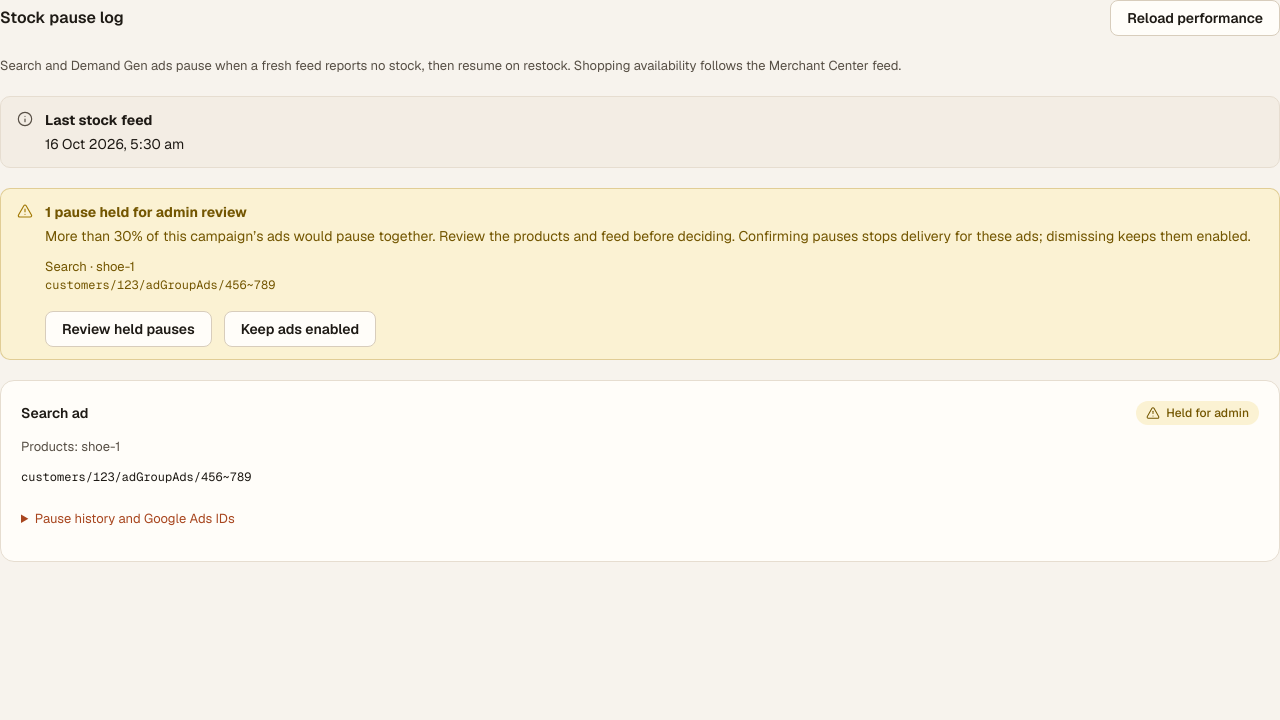
Scenario: batch failure stays in the dialog and focuses its message
Click the button "Review held pauses" at (128, 329), box top-left (45, 311), bottom-right (212, 347)
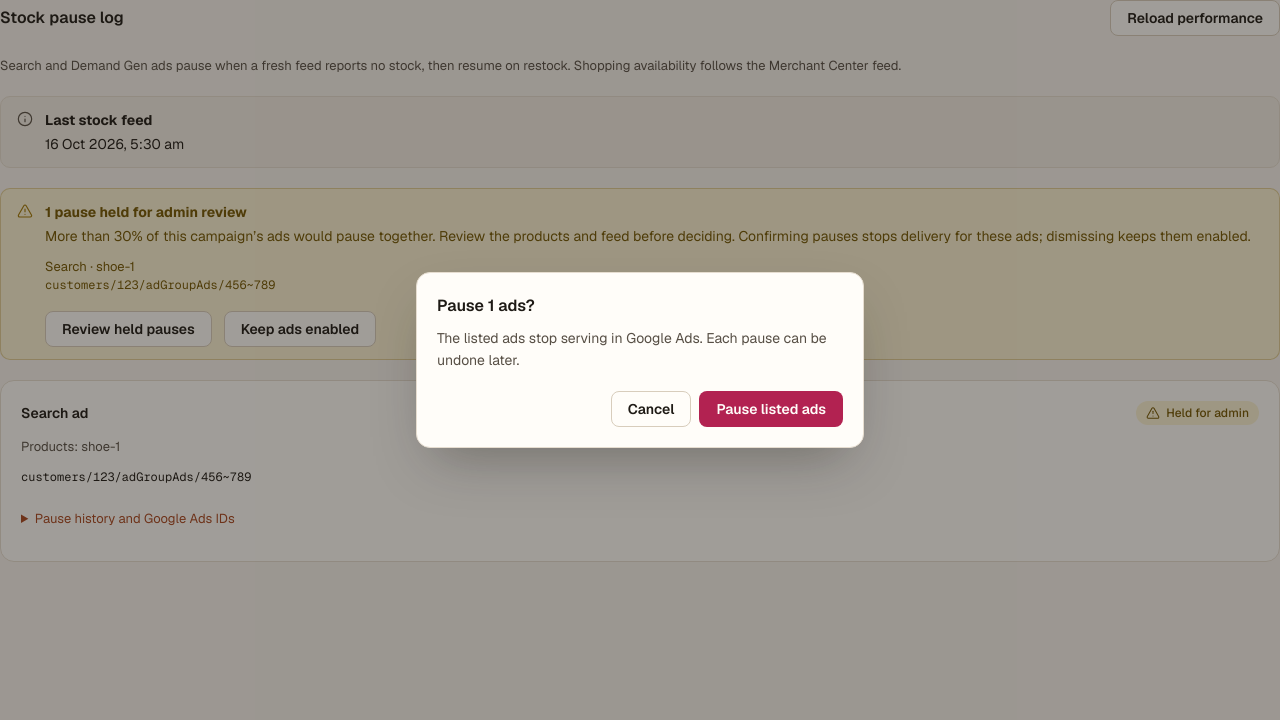
Click the button "Pause listed ads" at (771, 409), box top-left (699, 391), bottom-right (843, 427)
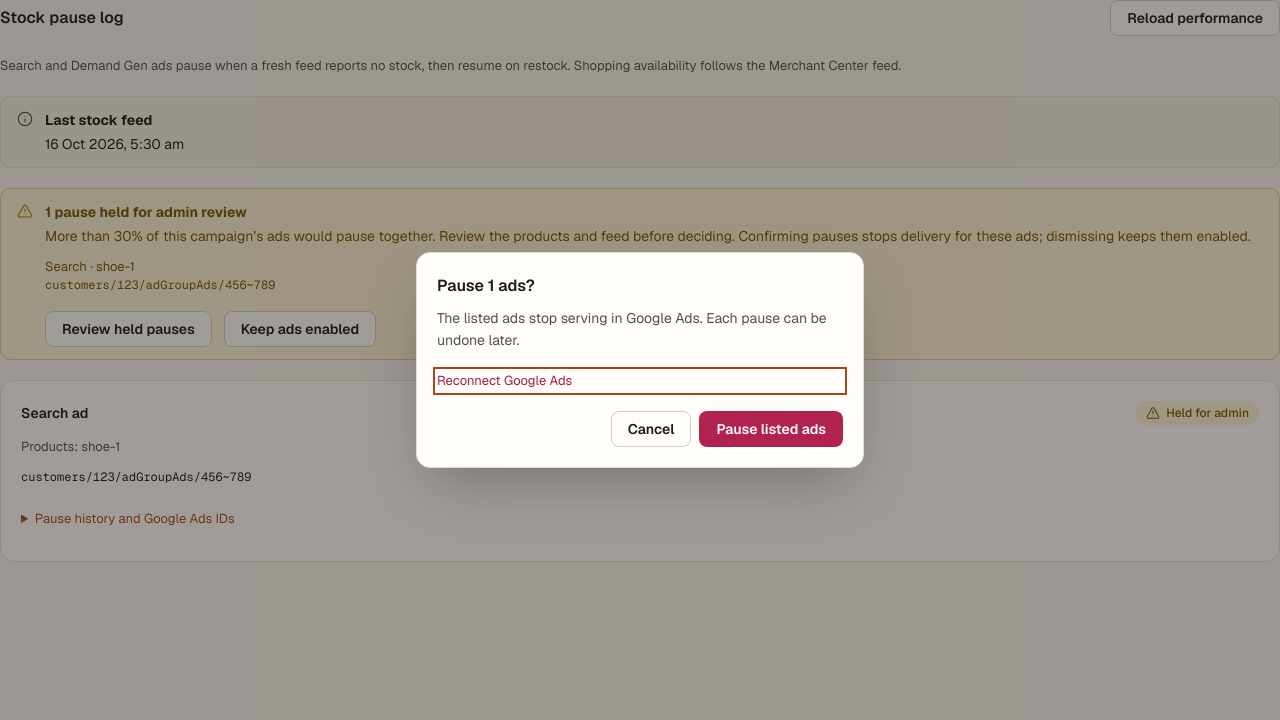
Now the message reads "Reconnect Google Ads", box top-left (437, 372), bottom-right (572, 389)
